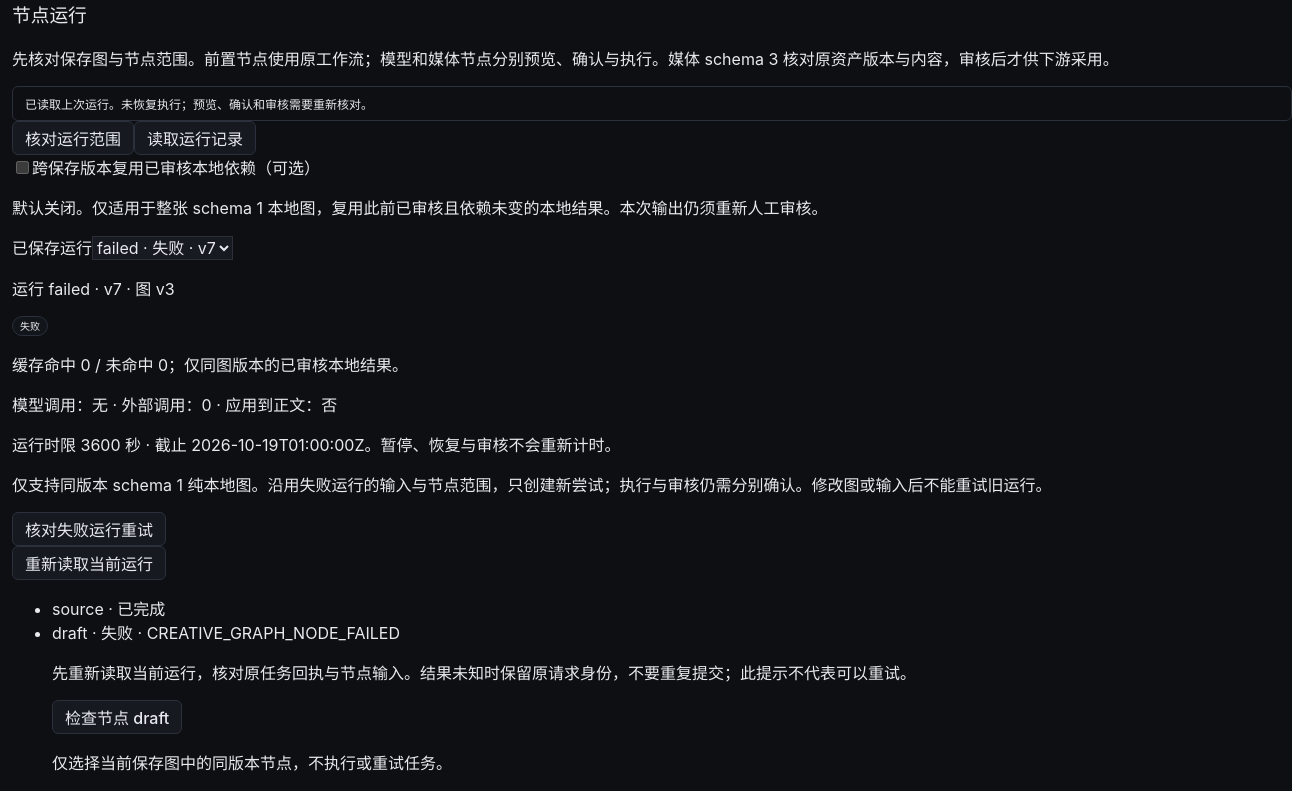
Test: failed pure-local retry controls › does not offer retry for QUEUED
Click the button "重新读取当前运行" at coordinates (89, 563), box x1=12 y1=546 x2=166 y2=580
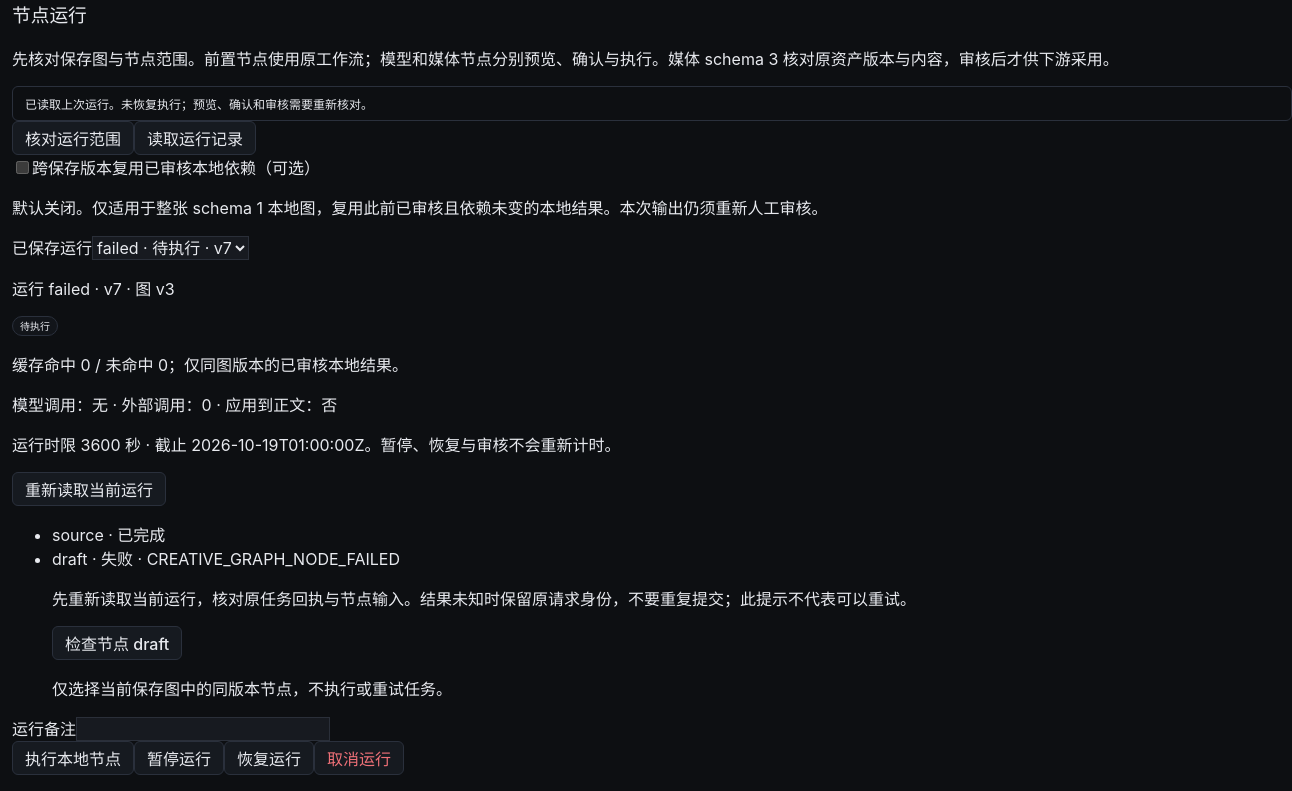
Now the element "失败本地运行重试" is gone
